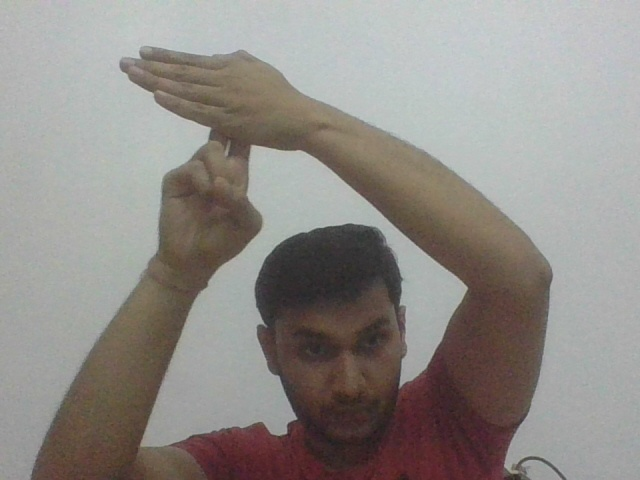N: (117, 41, 298, 170)
